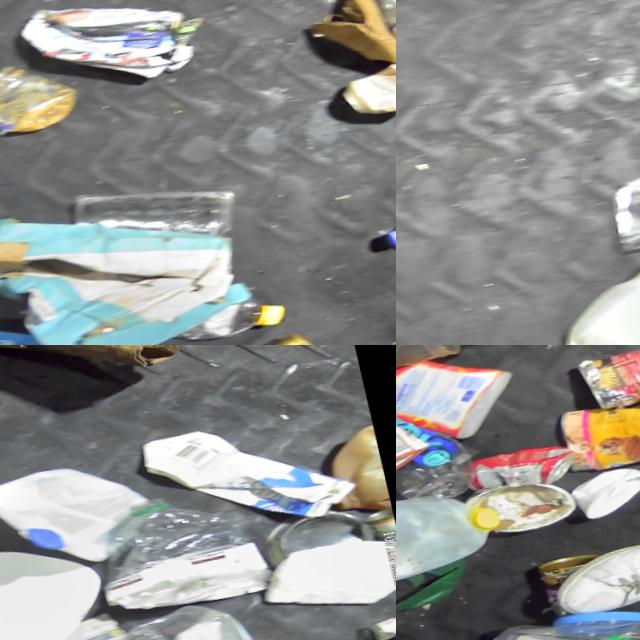can: (451, 436, 580, 500), (550, 392, 640, 477), (0, 52, 81, 142), (575, 345, 640, 412)
milk_jug: (0, 452, 156, 571), (396, 472, 511, 595), (552, 221, 640, 345)
non_white_jug: (396, 345, 513, 465)
plastic_bottle: (369, 0, 396, 63), (373, 192, 396, 250)
